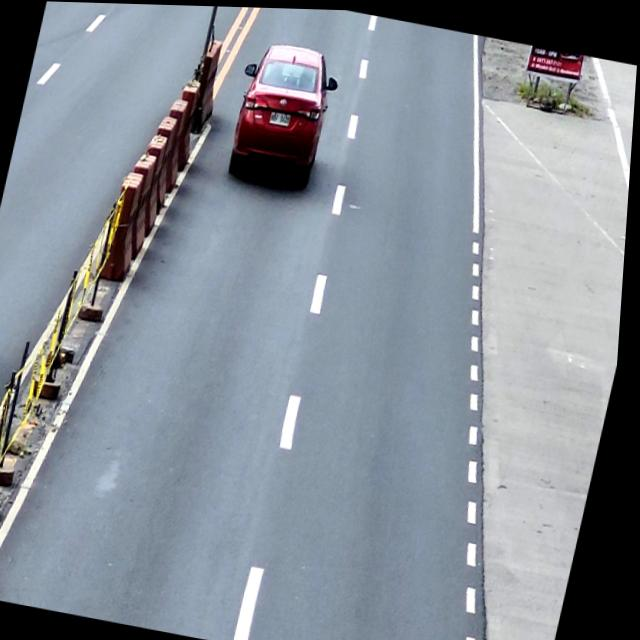Car: (223, 35, 345, 189)
License-Plate: (269, 106, 294, 126)
